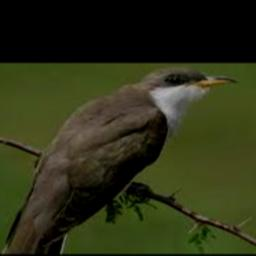Cuckoo: (0, 67, 237, 255)
